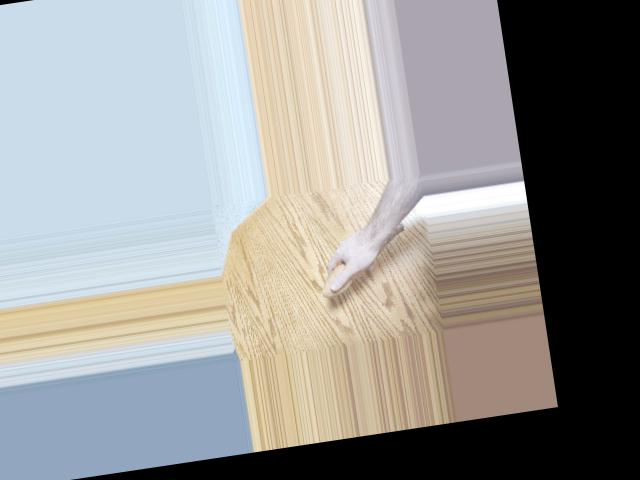sweet_potato: (314, 220, 415, 298)
